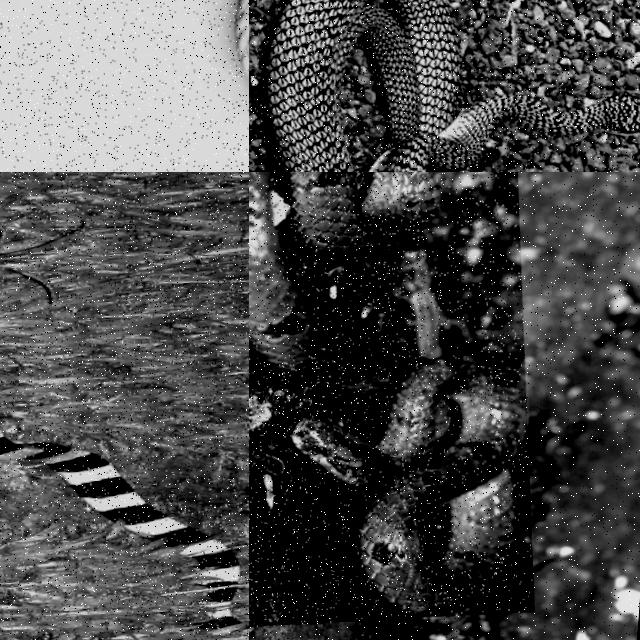Bungarus candidus: (0, 425, 240, 623)
Calliophis maculiceps: (249, 172, 526, 617)
Chrysopelea ornata: (265, 0, 639, 171)
Malayopython reticulatus: (237, 0, 248, 72)
